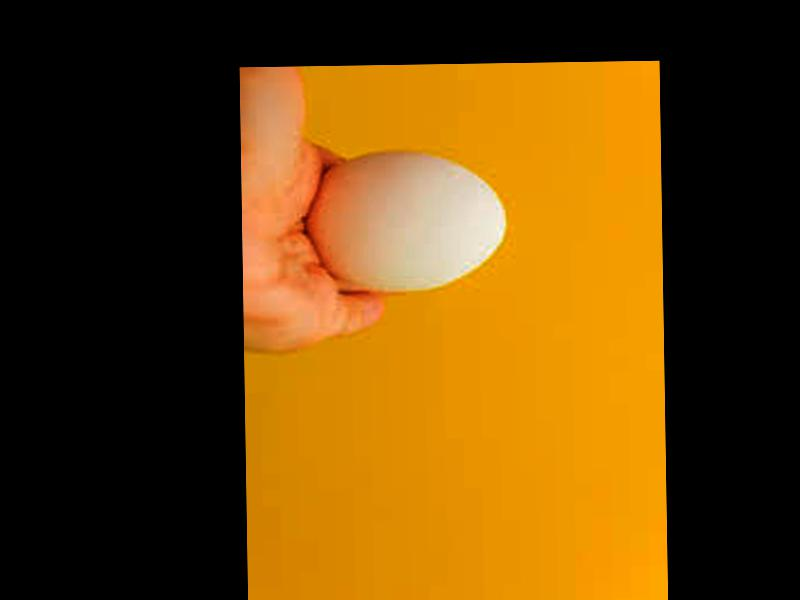Eggs: (307, 155, 509, 292)
